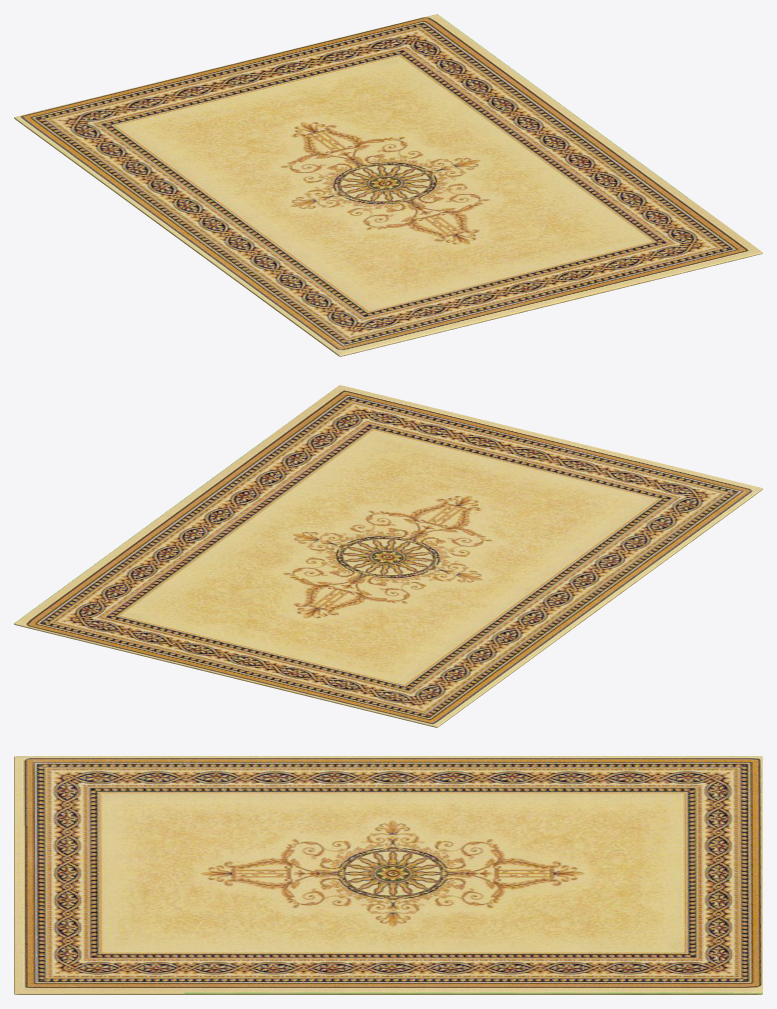
File: rug-medallion.glb
The picture shows the model from 3 angles, top to bottom: view 1: azimuth 30°, elevation 25°; view 2: azimuth 150°, elevation 25°; view 3: azimuth 270°, elevation 25°; orthographic projection. The views are drawn at different scales.
Visible parts, largest first — view 1: 10417_Rectangular_rug_v1_iterations-2.obj; view 2: 10417_Rectangular_rug_v1_iterations-2.obj; view 3: 10417_Rectangular_rug_v1_iterations-2.obj.
Boxes of the visible parts, x1,y1,x2,y2 form: 10417_Rectangular_rug_v1_iterations-2.obj: (14, 14, 762, 356); 10417_Rectangular_rug_v1_iterations-2.obj: (14, 385, 762, 727); 10417_Rectangular_rug_v1_iterations-2.obj: (14, 756, 762, 994).
Bounding box in the file's own units: 1.8 × 0.00826 × 2.4.
1 material, 1 textured.
